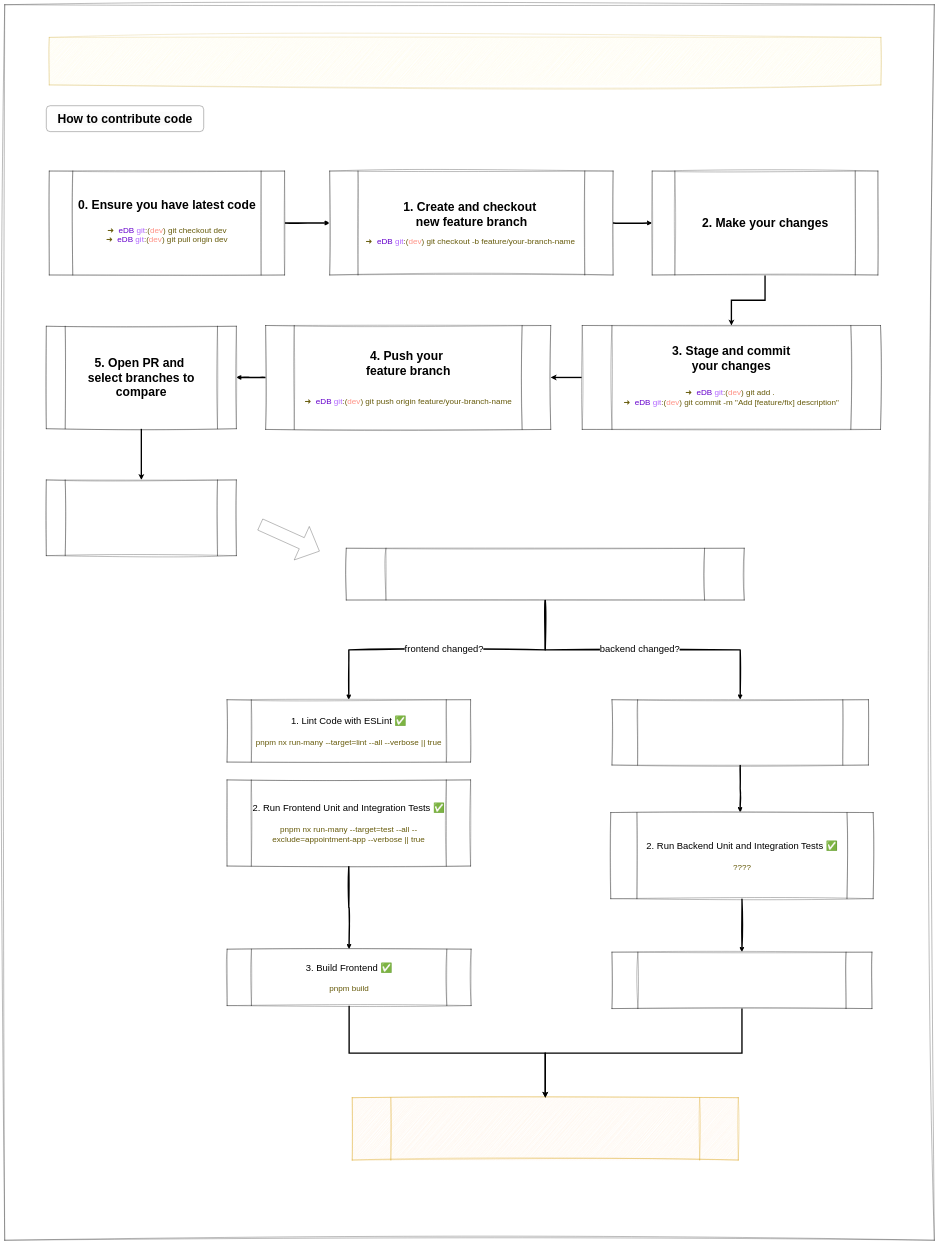
Image size: 939x1245. Some labels were removed from this diagram. The centre of each missing label's shape, as x and y in pixels:
"0. Check if backend or frontend code changed" belongs at point (545, 574).
"1. Lint Code with ??? ✅ ????" belongs at point (740, 732).
"2. Build Backend ✅ ????" belongs at point (742, 980).
"6. Wait for CI/CD Checks to Pass" belongs at point (141, 518).
"8. Only if all checks pass, m erge the PR to dev branch" belongs at point (545, 1128).
"Development Workflow" belongs at point (465, 61).
